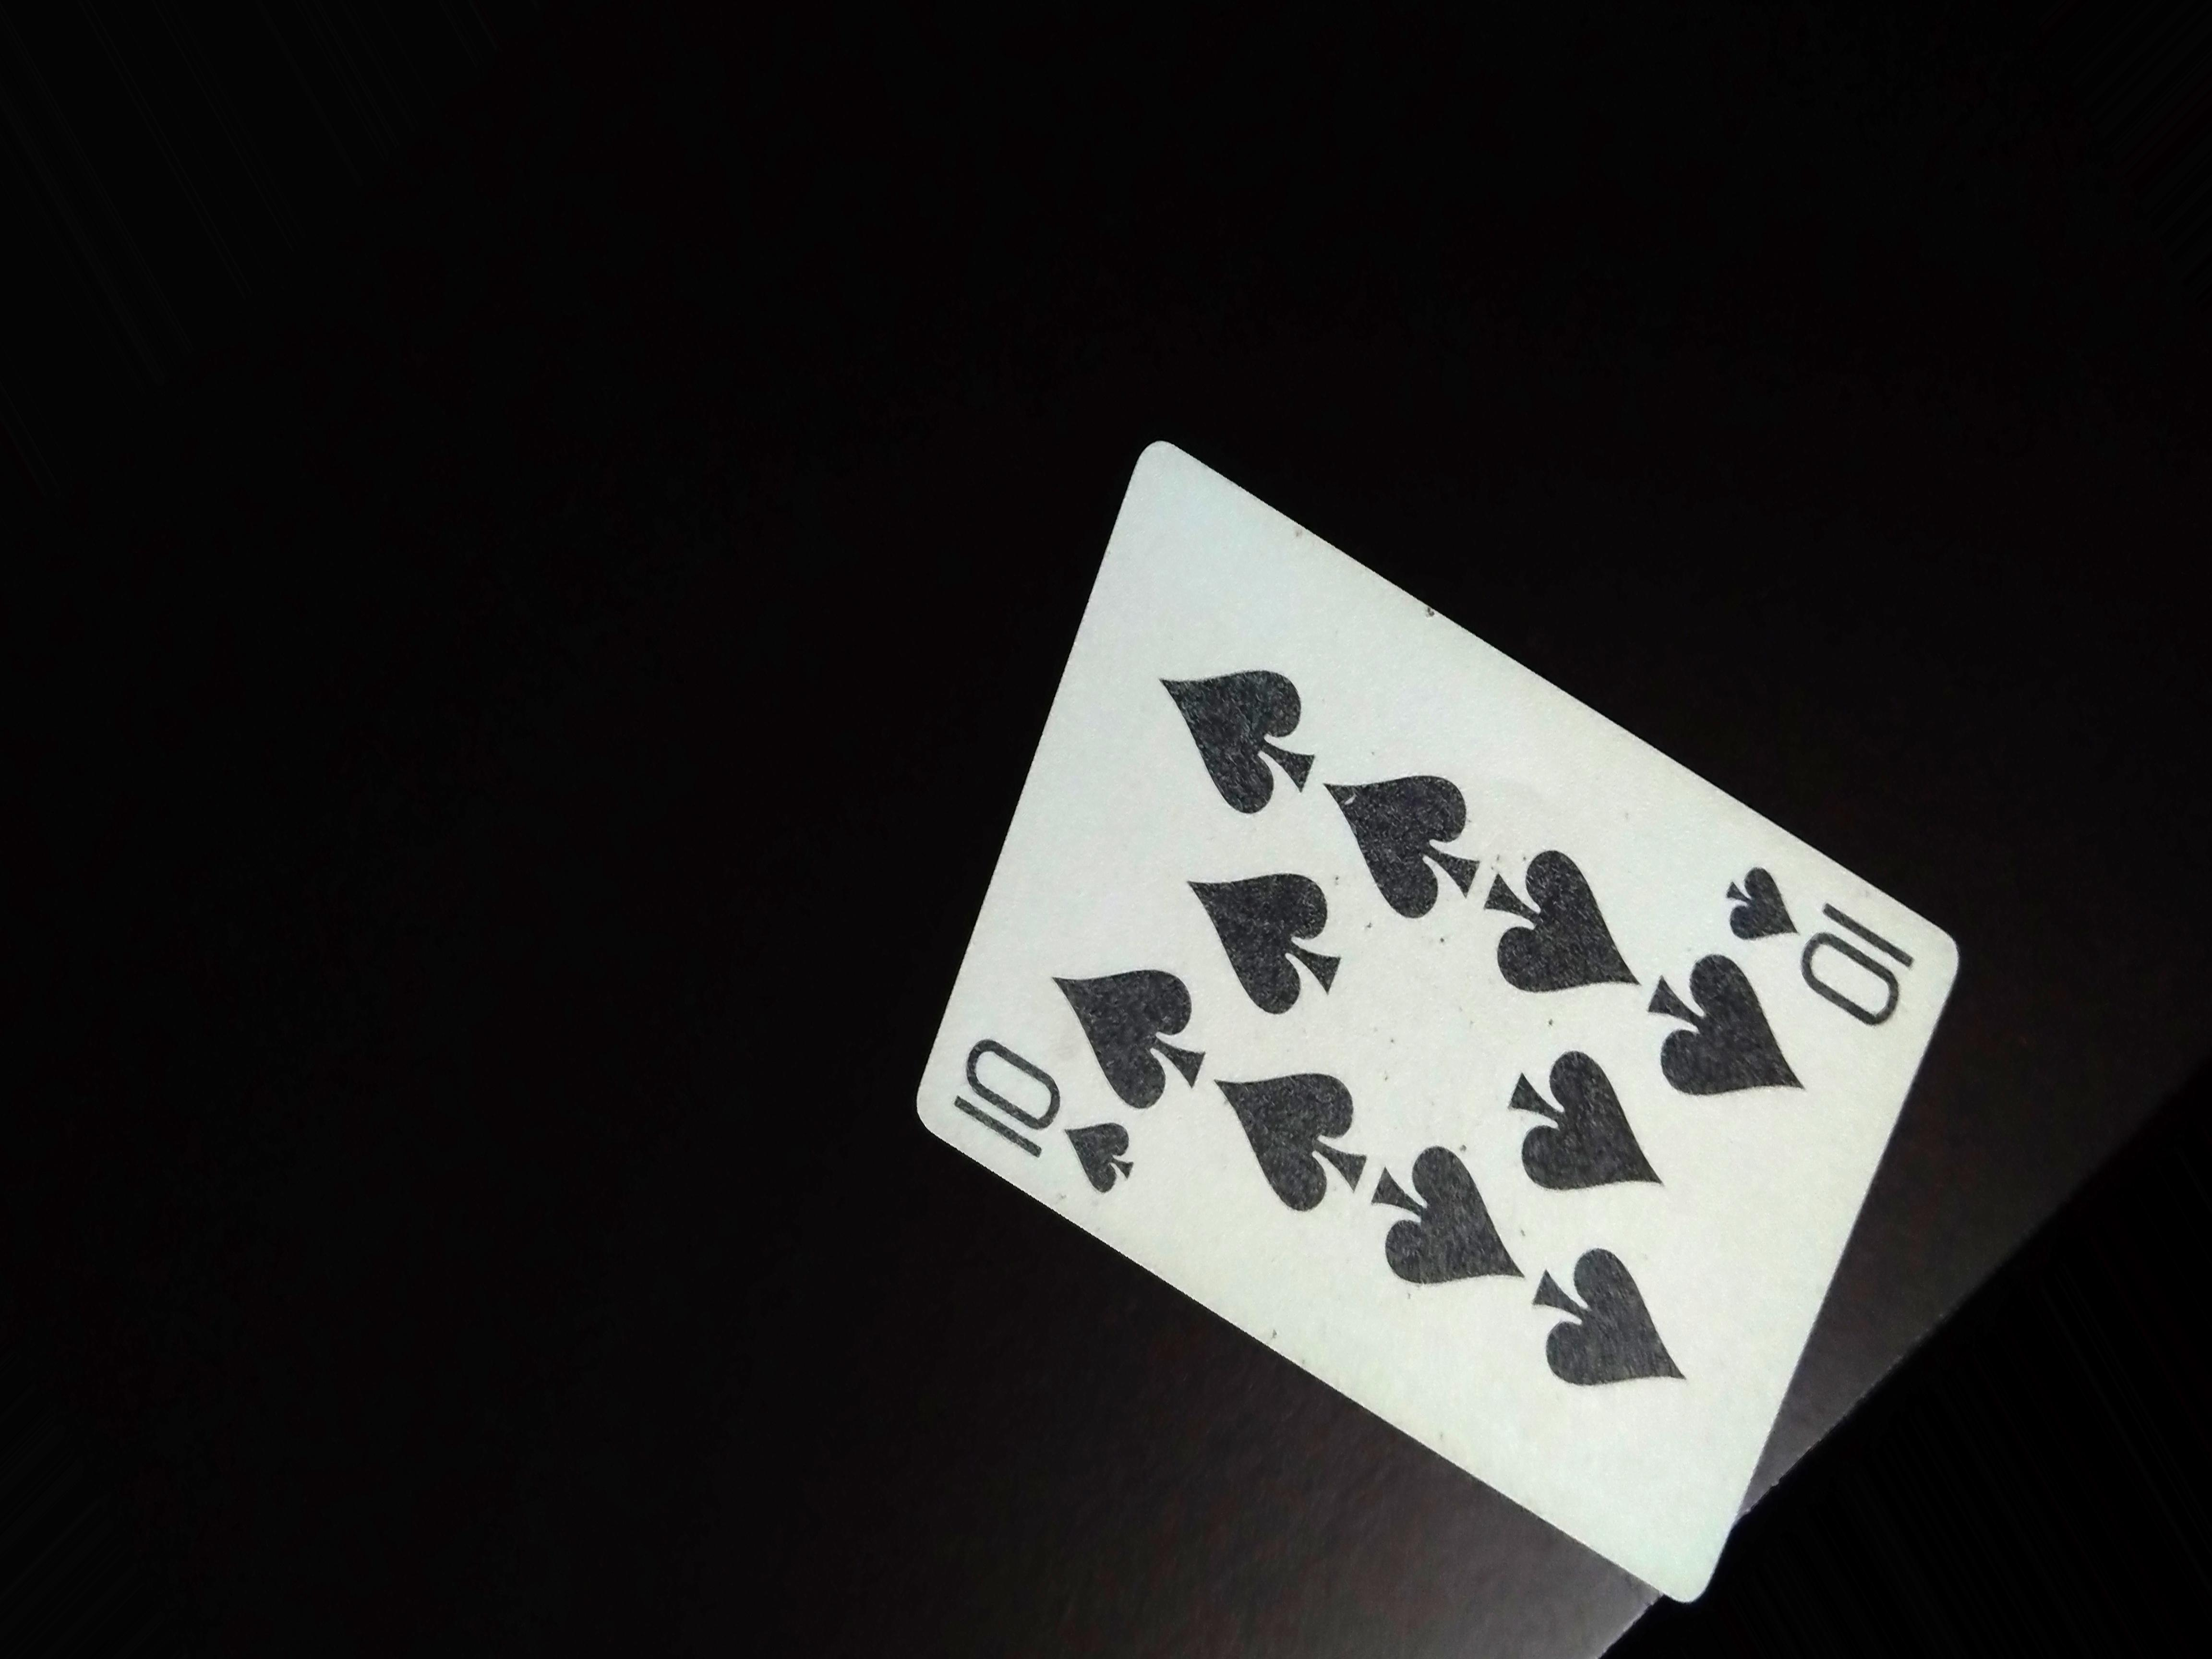10S: (944, 1026, 1143, 1211)
